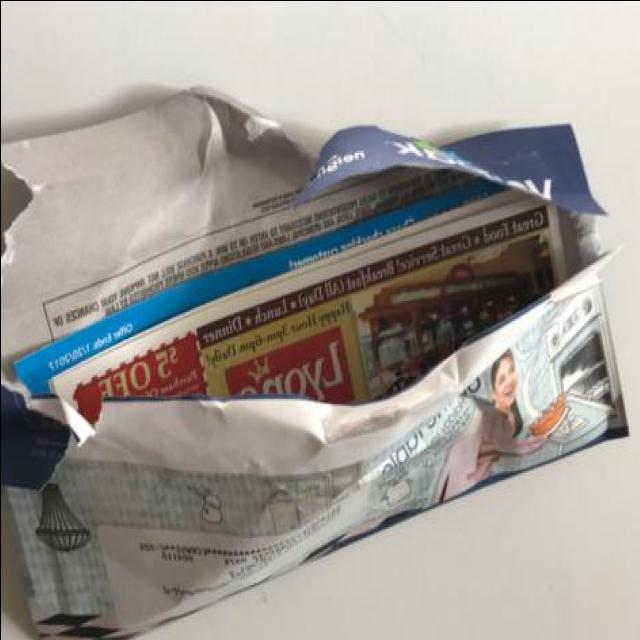kertas: (0, 80, 636, 640)
